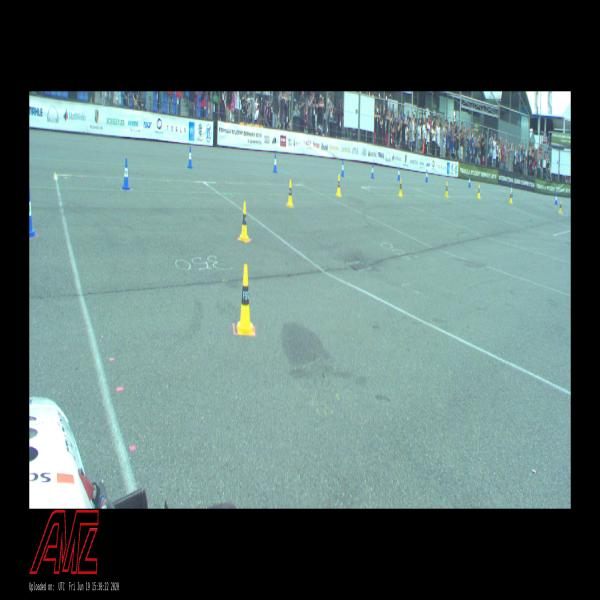blue_cone: (29, 187, 37, 238), (122, 158, 131, 190), (188, 146, 192, 168), (273, 153, 277, 172), (341, 161, 344, 176), (371, 164, 374, 178), (397, 167, 400, 180), (425, 169, 428, 182), (510, 185, 513, 197), (468, 176, 471, 187), (555, 193, 557, 204)
yellow_cone: (237, 264, 254, 335), (238, 201, 250, 242), (286, 179, 294, 208), (336, 174, 341, 196), (398, 178, 402, 196), (444, 181, 448, 198), (509, 190, 513, 203), (477, 184, 480, 198), (559, 200, 562, 213)
